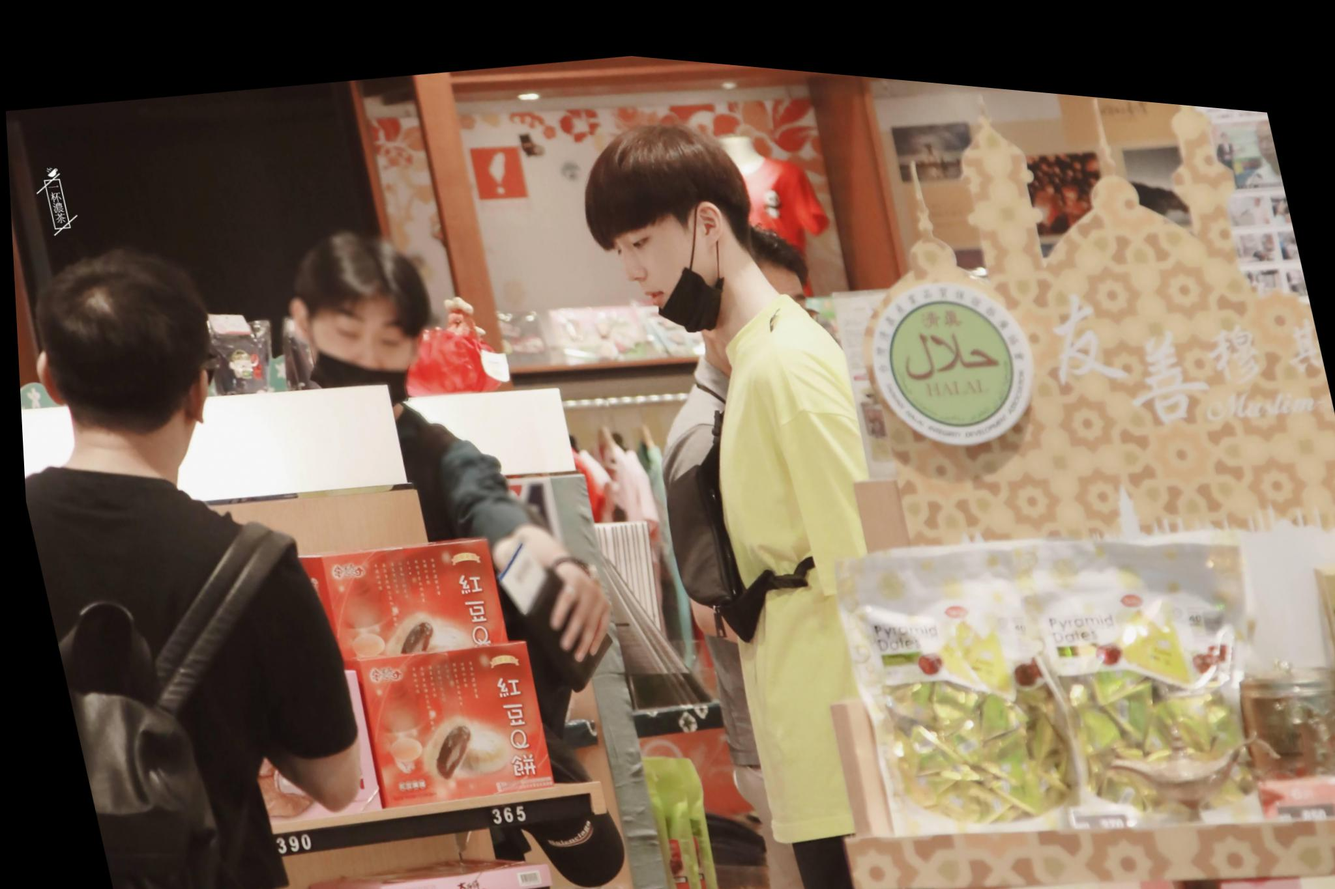WRONG: (604, 187, 714, 331), (299, 290, 422, 418)
